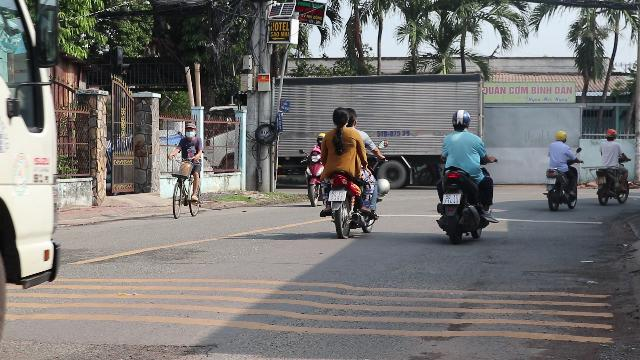helmet: (450, 109, 470, 130)
licenseplate: (443, 194, 461, 204), (329, 191, 346, 201)
motorcyclist: (318, 104, 382, 238), (432, 109, 496, 241)
nohelmet: (330, 106, 350, 128)
